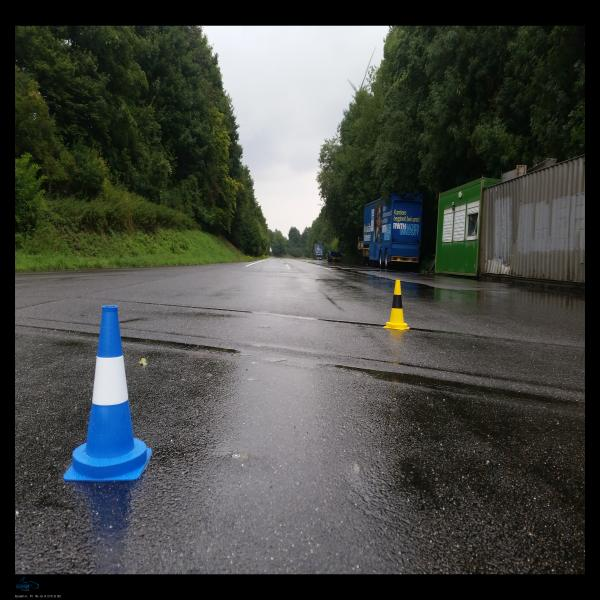blue_cone: (62, 306, 152, 481)
yellow_cone: (383, 280, 410, 330)
